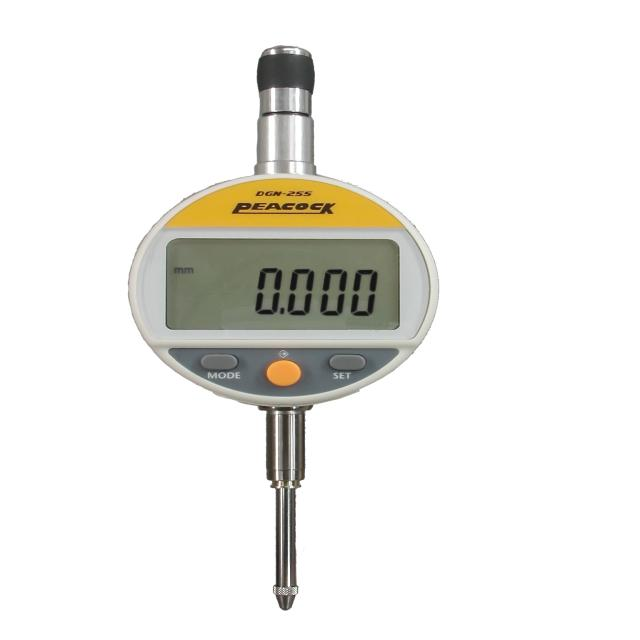display: (167, 239, 401, 330)
frame: (250, 265, 386, 320), (288, 190, 314, 198)
gauge: (127, 44, 441, 612)
